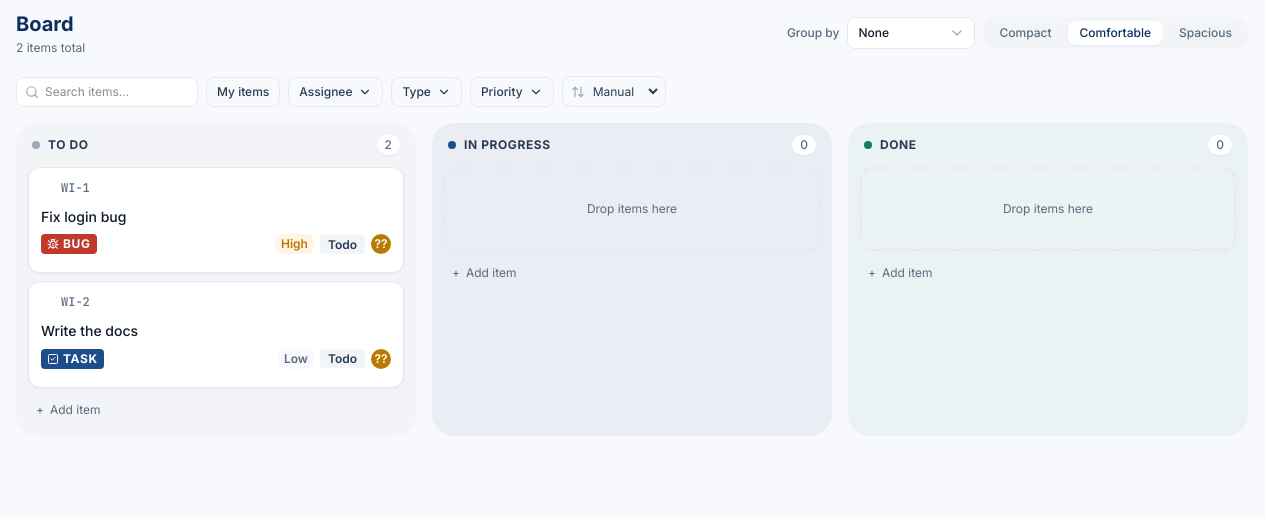
Test case: BoardView › selecting a card reveals the bulk-edit bar (when bulk is enabled)
The width and height of the screenshot is (1265, 519).
Expected: the button "review" is not shown
Click the checkbox named "select item". click: x=75, y=188
box: [61, 180, 90, 196]
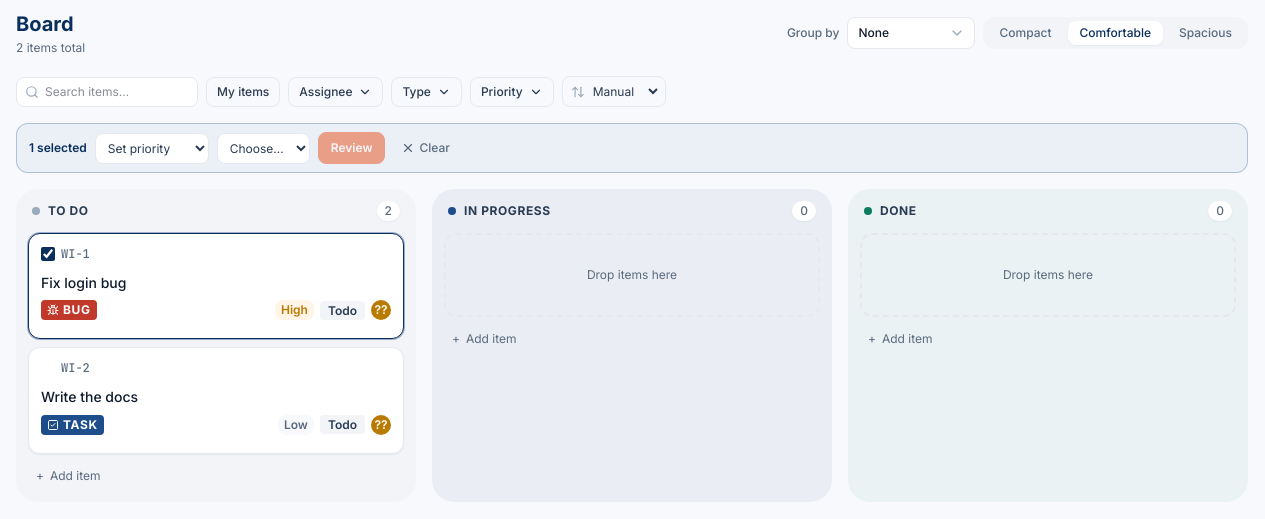
Expected: the button "Review" is shown, [318, 132, 385, 164]
Expected: the text "1 selected" is shown, [29, 140, 87, 156]
